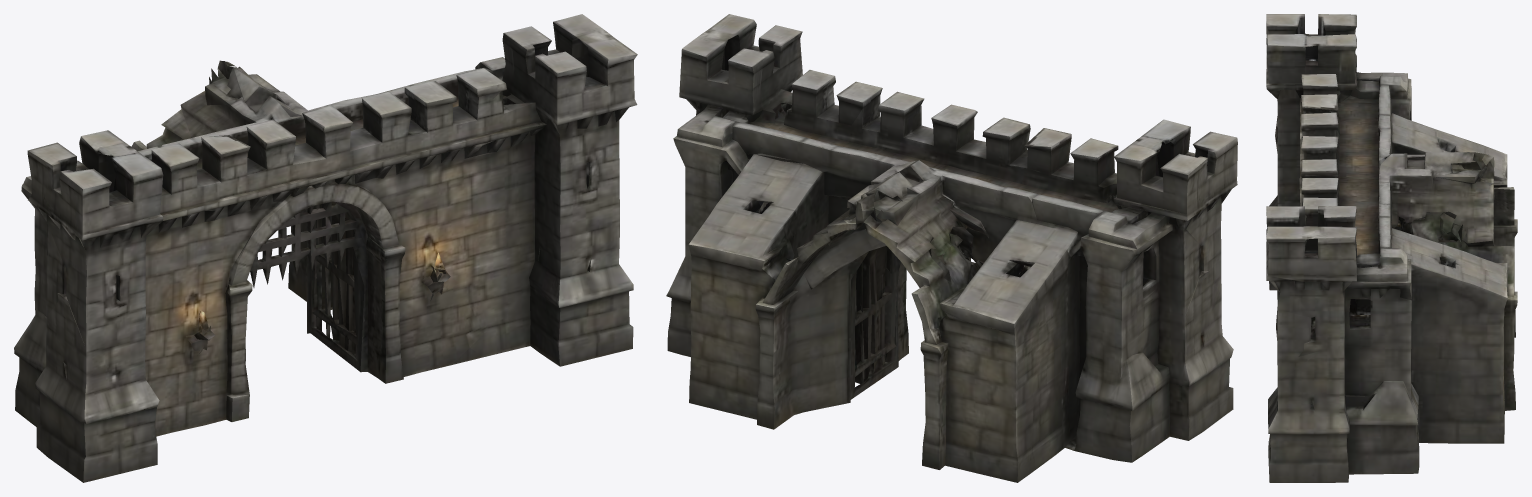
The model's file is fort_m_savanna_gate.glb.
The picture shows the model from 3 angles, left to right: view 1: azimuth 30°, elevation 25°; view 2: azimuth 150°, elevation 25°; view 3: azimuth 270°, elevation 25°; orthographic projection. The views are drawn at different scales.
Parts seen in each view (by area): view 1: fort_m_savanna_gate; view 2: fort_m_savanna_gate; view 3: fort_m_savanna_gate.
Boxes of the visible parts, x1,y1,x2,y2 form: fort_m_savanna_gate: (14,14,637,482); fort_m_savanna_gate: (666,14,1237,482); fort_m_savanna_gate: (1266,14,1517,482).
Bounding box in the file's own units: 1.9 × 0.973 × 0.8988.
1 material, 1 textured.
